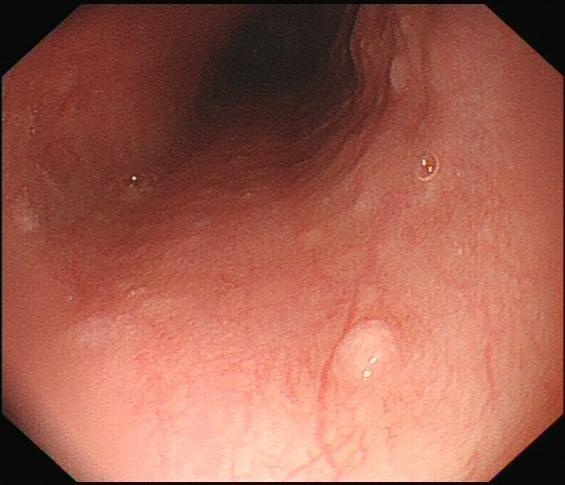Polyp: (325, 309, 404, 380)
